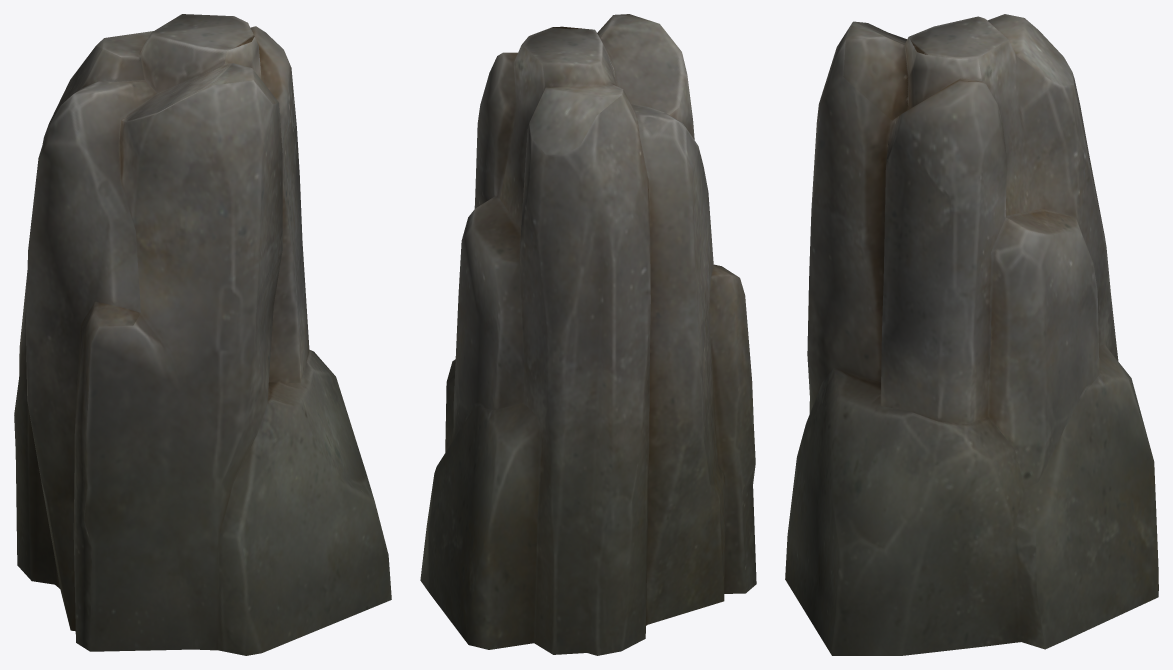
The model's file is Rock4.fbx.
3 renders of one model, left to right at view 1: azimuth 30°, elevation 25°; view 2: azimuth 150°, elevation 25°; view 3: azimuth 270°, elevation 25°, orthographic. The views are drawn at different scales.
Parts seen in each view (by area): view 1: RockWall_Pillar_Retopo.002_Plane.020; view 2: RockWall_Pillar_Retopo.002_Plane.020; view 3: RockWall_Pillar_Retopo.002_Plane.020.
Part boxes in pixels (bbox=[...]): RockWall_Pillar_Retopo.002_Plane.020: bbox=[14, 14, 391, 655]; RockWall_Pillar_Retopo.002_Plane.020: bbox=[420, 14, 756, 655]; RockWall_Pillar_Retopo.002_Plane.020: bbox=[785, 14, 1158, 655].
Bounding box in the file's own units: 244 × 454 × 276.
